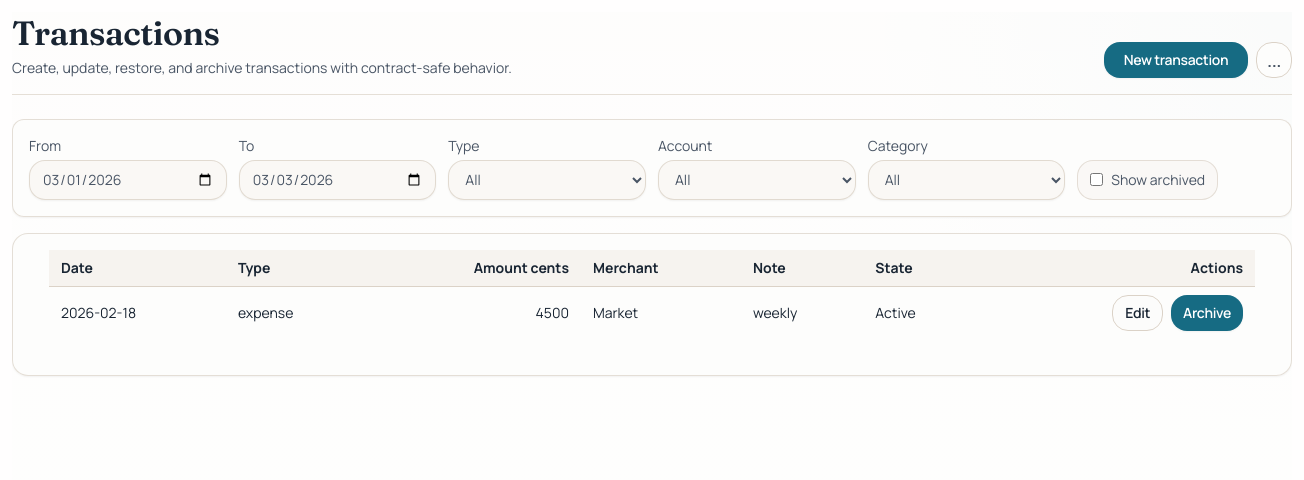
Test: TransactionsPage › shows retry-after guidance when export returns 429
Check: the text "Market" is shown, box [581,286,741,339]
Click the button named "More options" at (1274, 60), box [1256,42,1292,78]
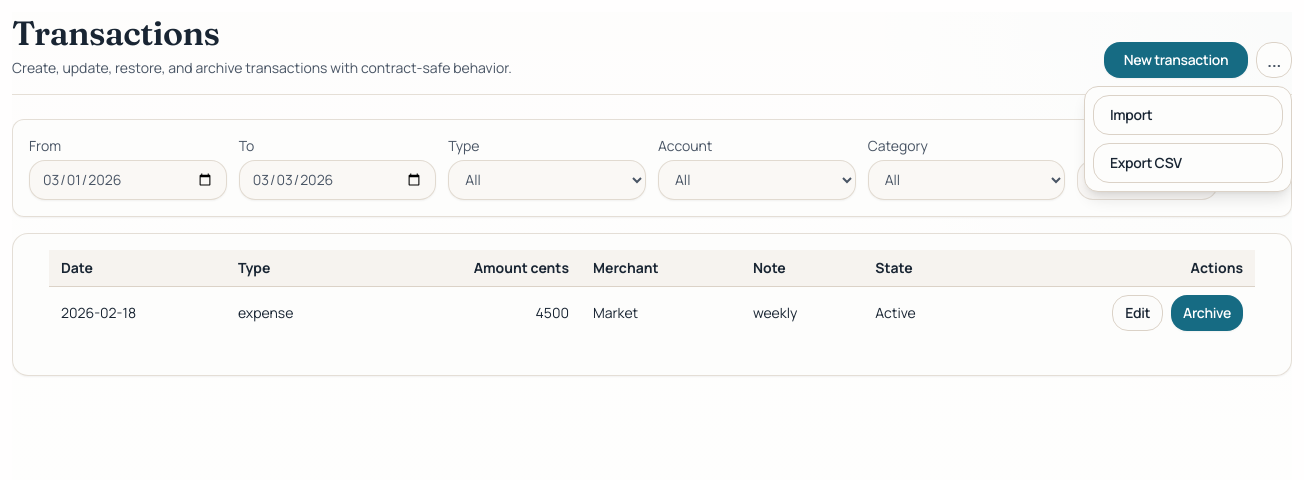
Click the button "Export CSV" at (1188, 163), box [1093,143,1283,183]
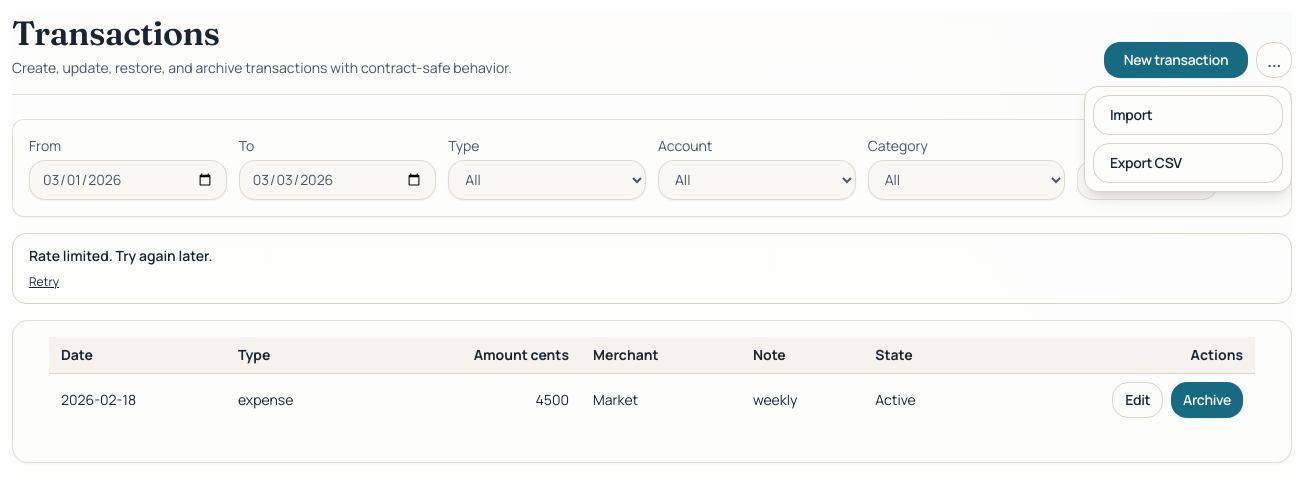
Check: the text "Rate limited. Try again later." is shown, box [29,246,212,265]
